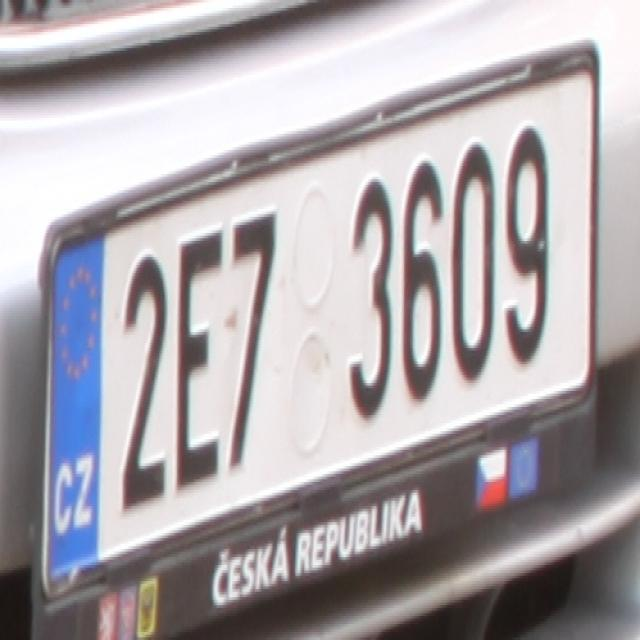0: (452, 136, 495, 383)
2: (120, 249, 166, 514)
3: (348, 172, 391, 420)
6: (402, 156, 444, 397)
7: (230, 212, 278, 474)
9: (506, 120, 552, 364)
E: (174, 220, 223, 484)
